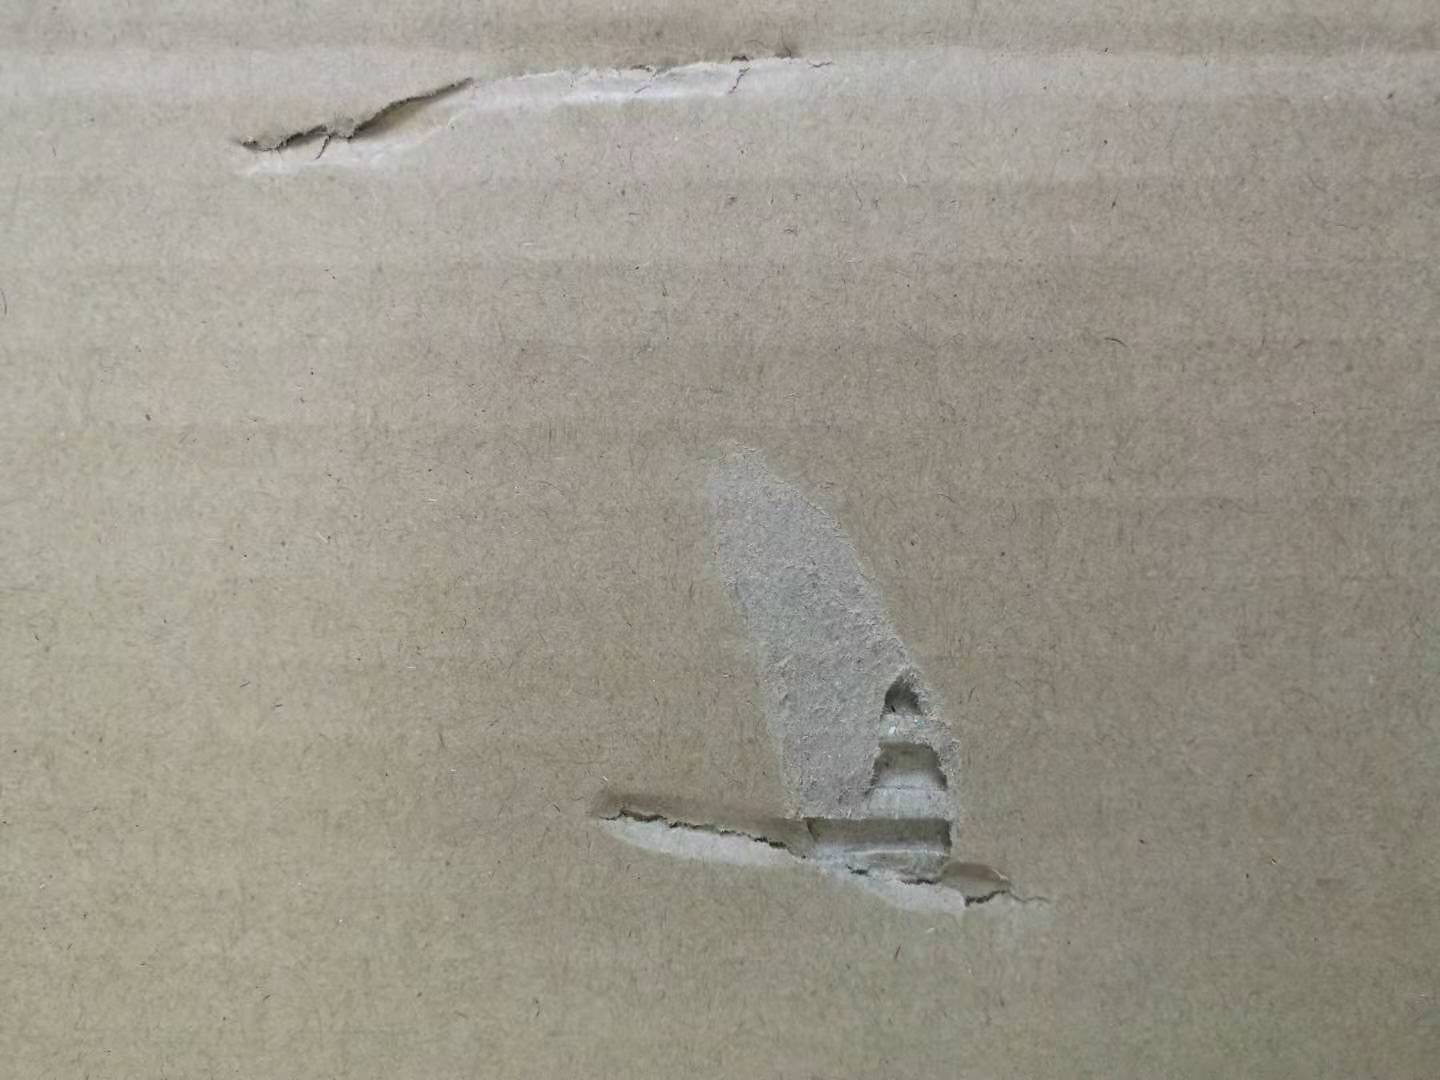defect: (551, 417, 1104, 951), (194, 23, 872, 195)
